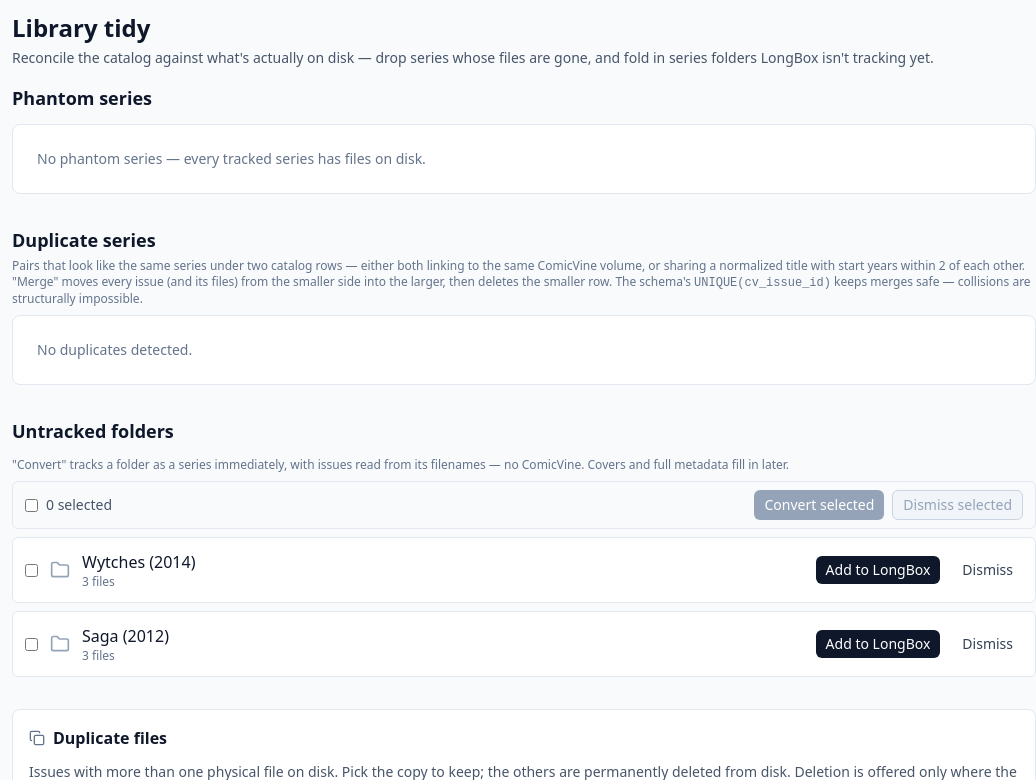
library tidy page › bulk-converts selected untracked folders to tracked series
Click the checkbox named "Select all untracked folders" at (32, 505), box [25,498,38,512]
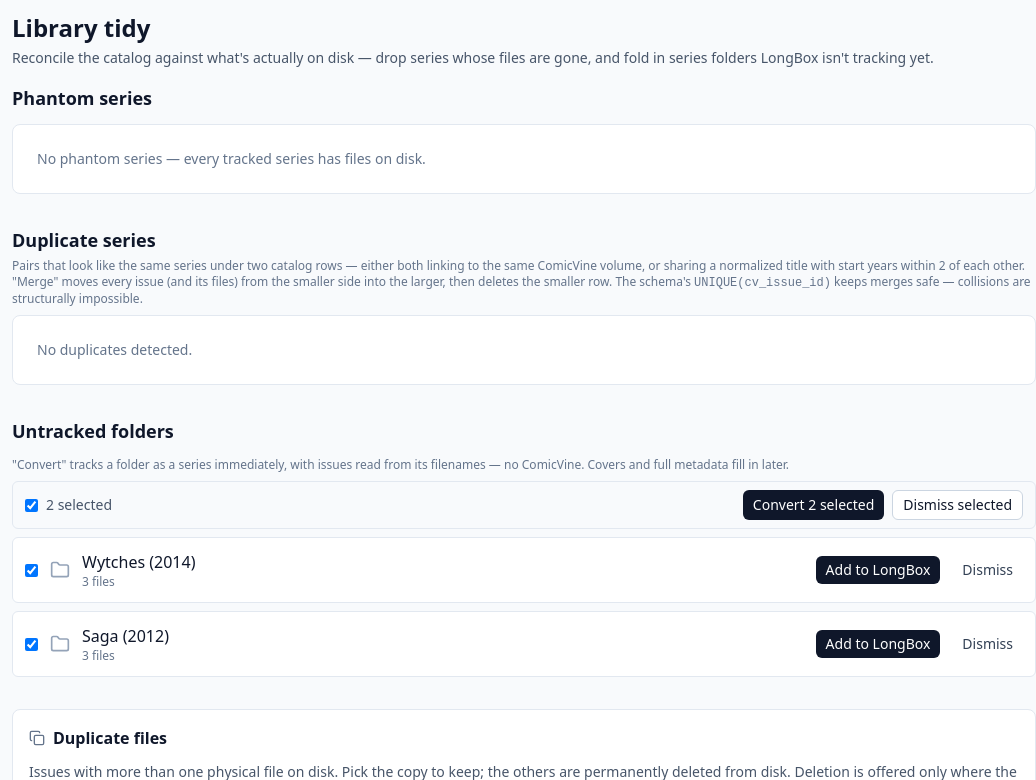
Click the button "Convert 2 selected" at (814, 505), box [743,490,884,520]
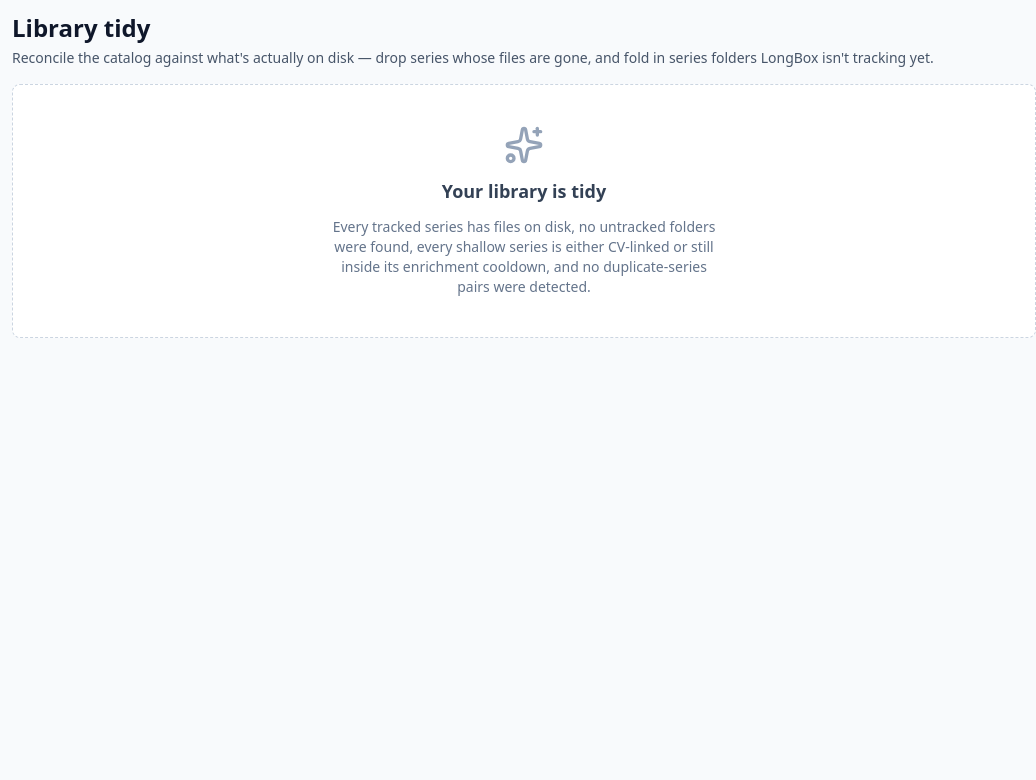
Expected: the text "Wytches (2014)" is gone
Expected: the text "Saga (2012)" is gone
